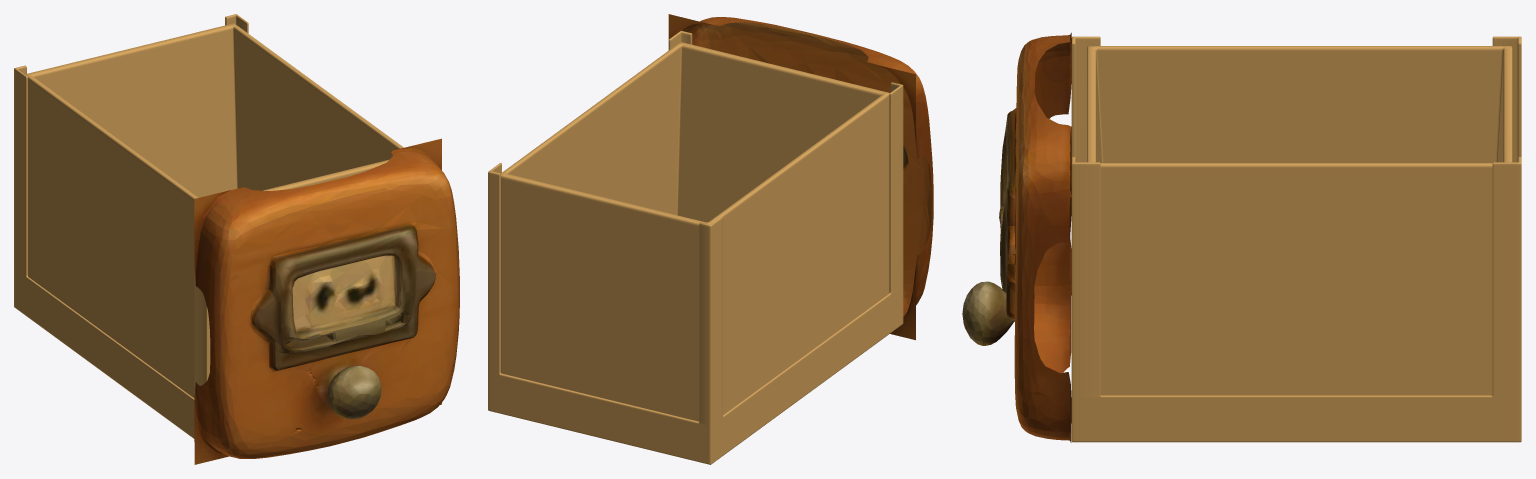
File: drawer_bottom_middle.glb
3 views of the same model, side by side, from view 1: azimuth 30°, elevation 25°; view 2: azimuth 150°, elevation 25°; view 3: azimuth 270°, elevation 25° (orthographic). The views are drawn at different scales.
Parts seen in each view (by area): view 1: prefab_drawer_body_5, source_front_cap_0; view 2: prefab_drawer_body_5, source_front_cap_0; view 3: prefab_drawer_body_5, source_front_cap_0.
Part boxes in pixels (left/top/right/bottom): prefab_drawer_body_5: left=14, top=14, right=403, bottom=438; source_front_cap_0: left=194, top=138, right=459, bottom=464; prefab_drawer_body_5: left=488, top=30, right=903, bottom=464; source_front_cap_0: left=668, top=14, right=933, bottom=340; prefab_drawer_body_5: left=1071, top=36, right=1521, bottom=442; source_front_cap_0: left=962, top=32, right=1071, bottom=442.
Size of the model in its own units: 0.0994 by 0.1021 by 0.1668.
Materials: 2 (1 with a texture image).
